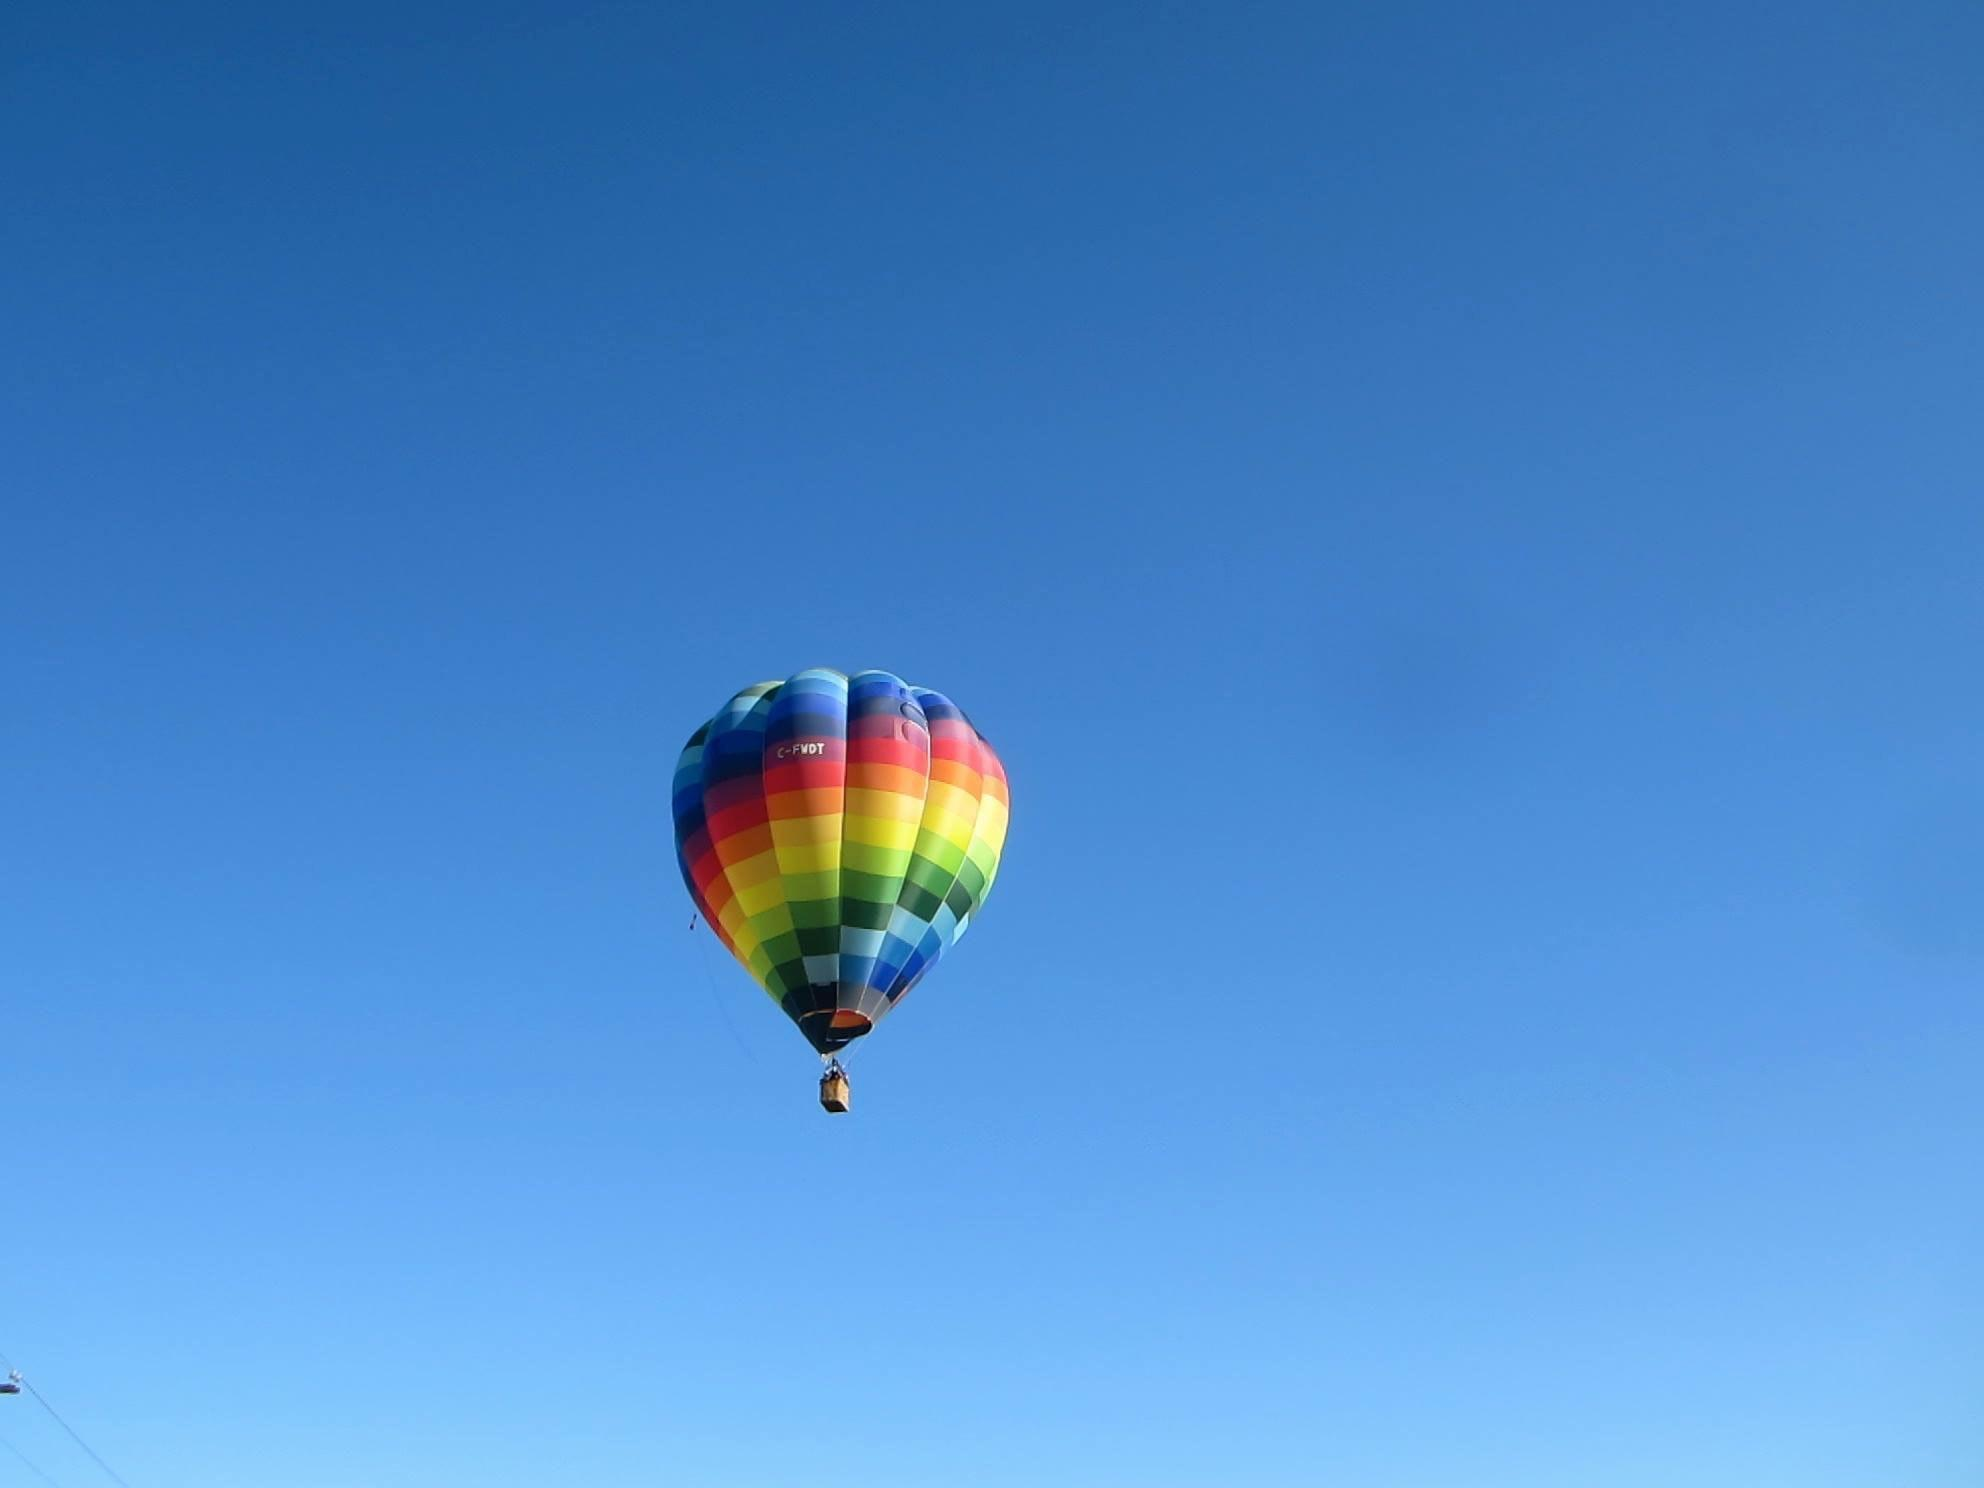hot air ballon: (669, 669, 1011, 1118)
